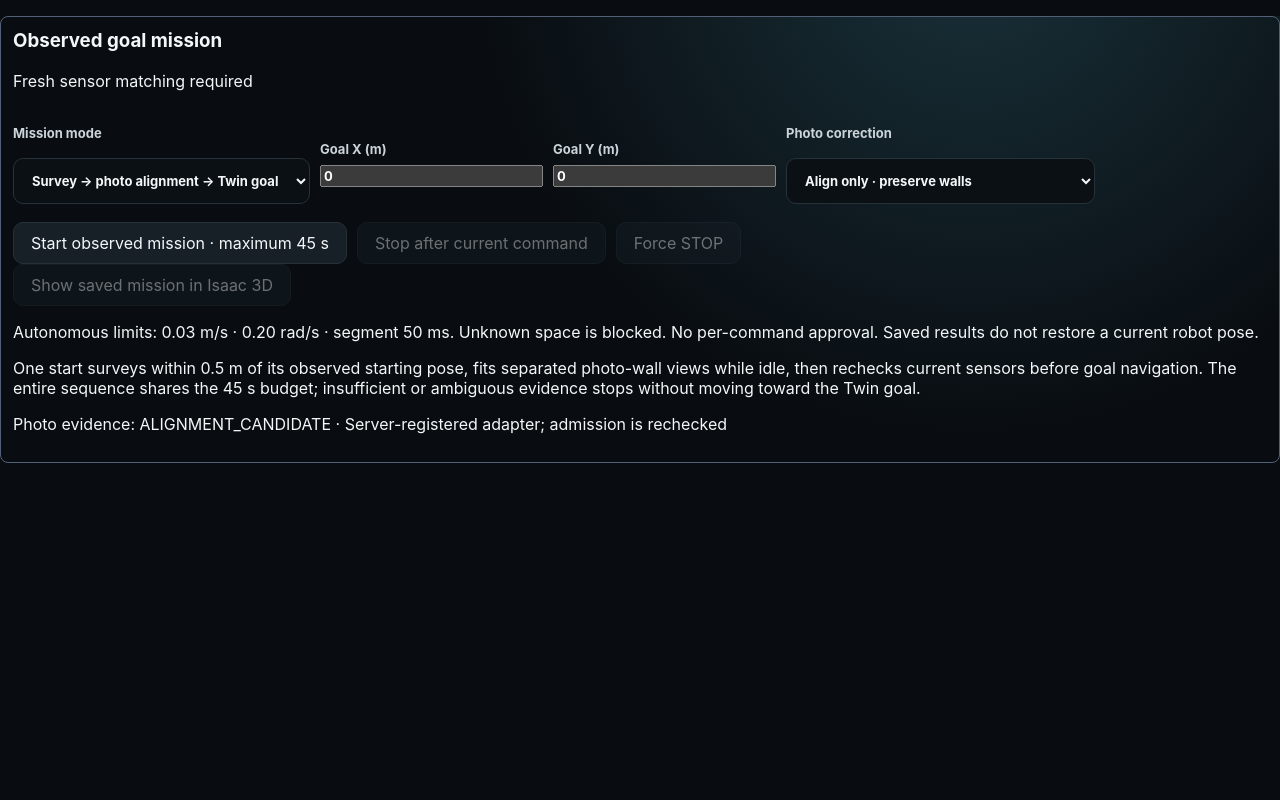
Test case: current observed mission › shows both original and cleanup failures even in an immediate terminal response
Click the button "Start observed mission · maximum 45 s": {"x": 180, "y": 243} [13,222,347,264]
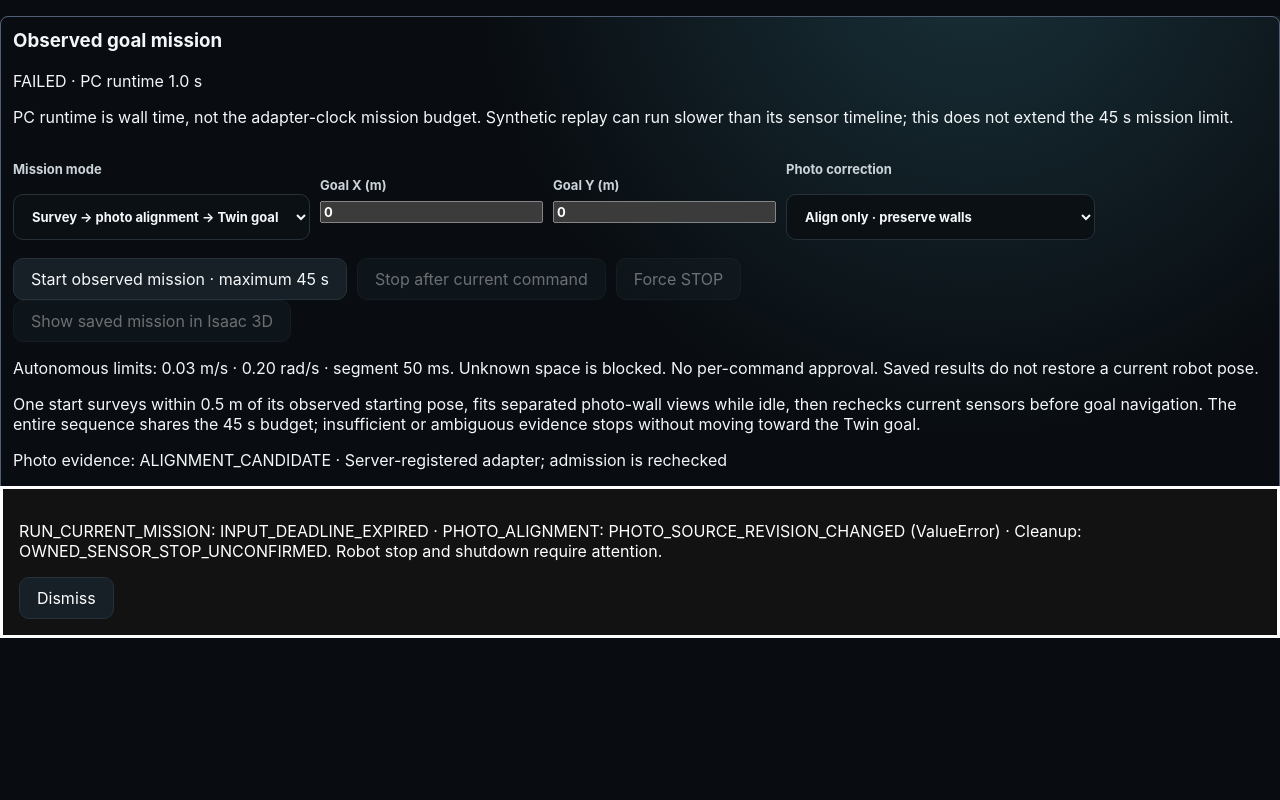
Expected: the dialog named "Observed mission error" shows "RUN_CURRENT_MISSION: INPUT_DEADLINE_EXPIRED", [19,521,1082,561]
Expected: the dialog named "Observed mission error" shows "Cleanup: OWNED_SENSOR_STOP_UNCONFIRMED", [19,521,1082,561]
Expected: the dialog named "Observed mission error" shows "PHOTO_ALIGNMENT: PHOTO_SOURCE_REVISION_CHANGED (ValueError)", [19,521,1082,561]
